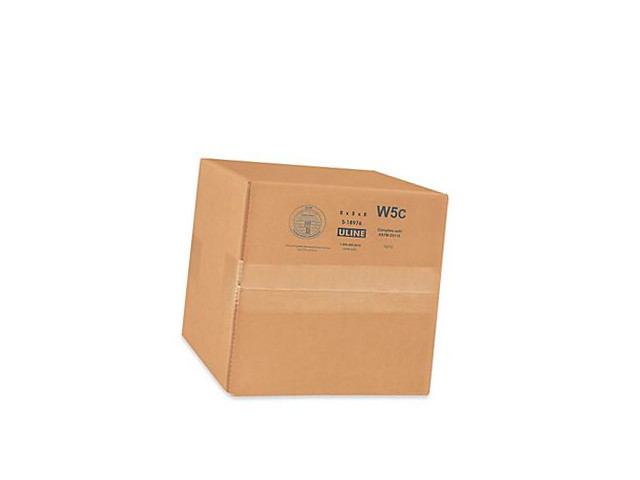cardboard: (182, 158, 446, 398)
